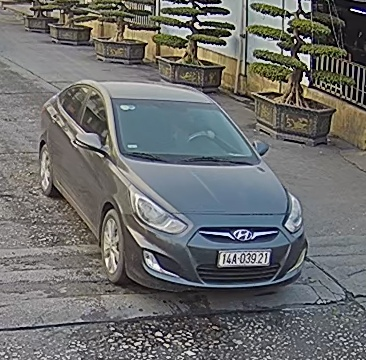vehicle plate: (216, 247, 275, 269)
